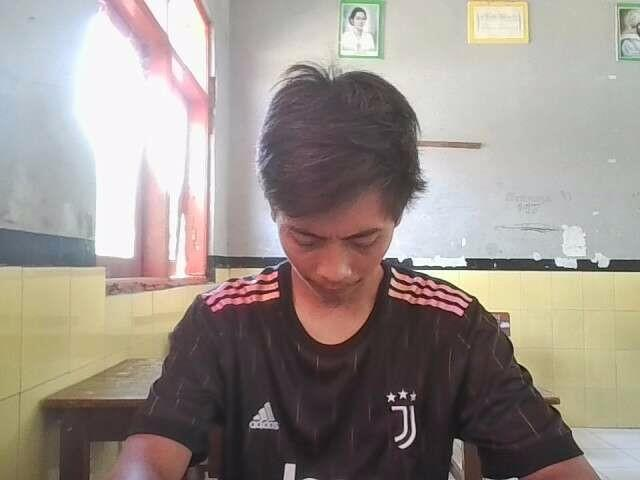good: (98, 54, 615, 480)
